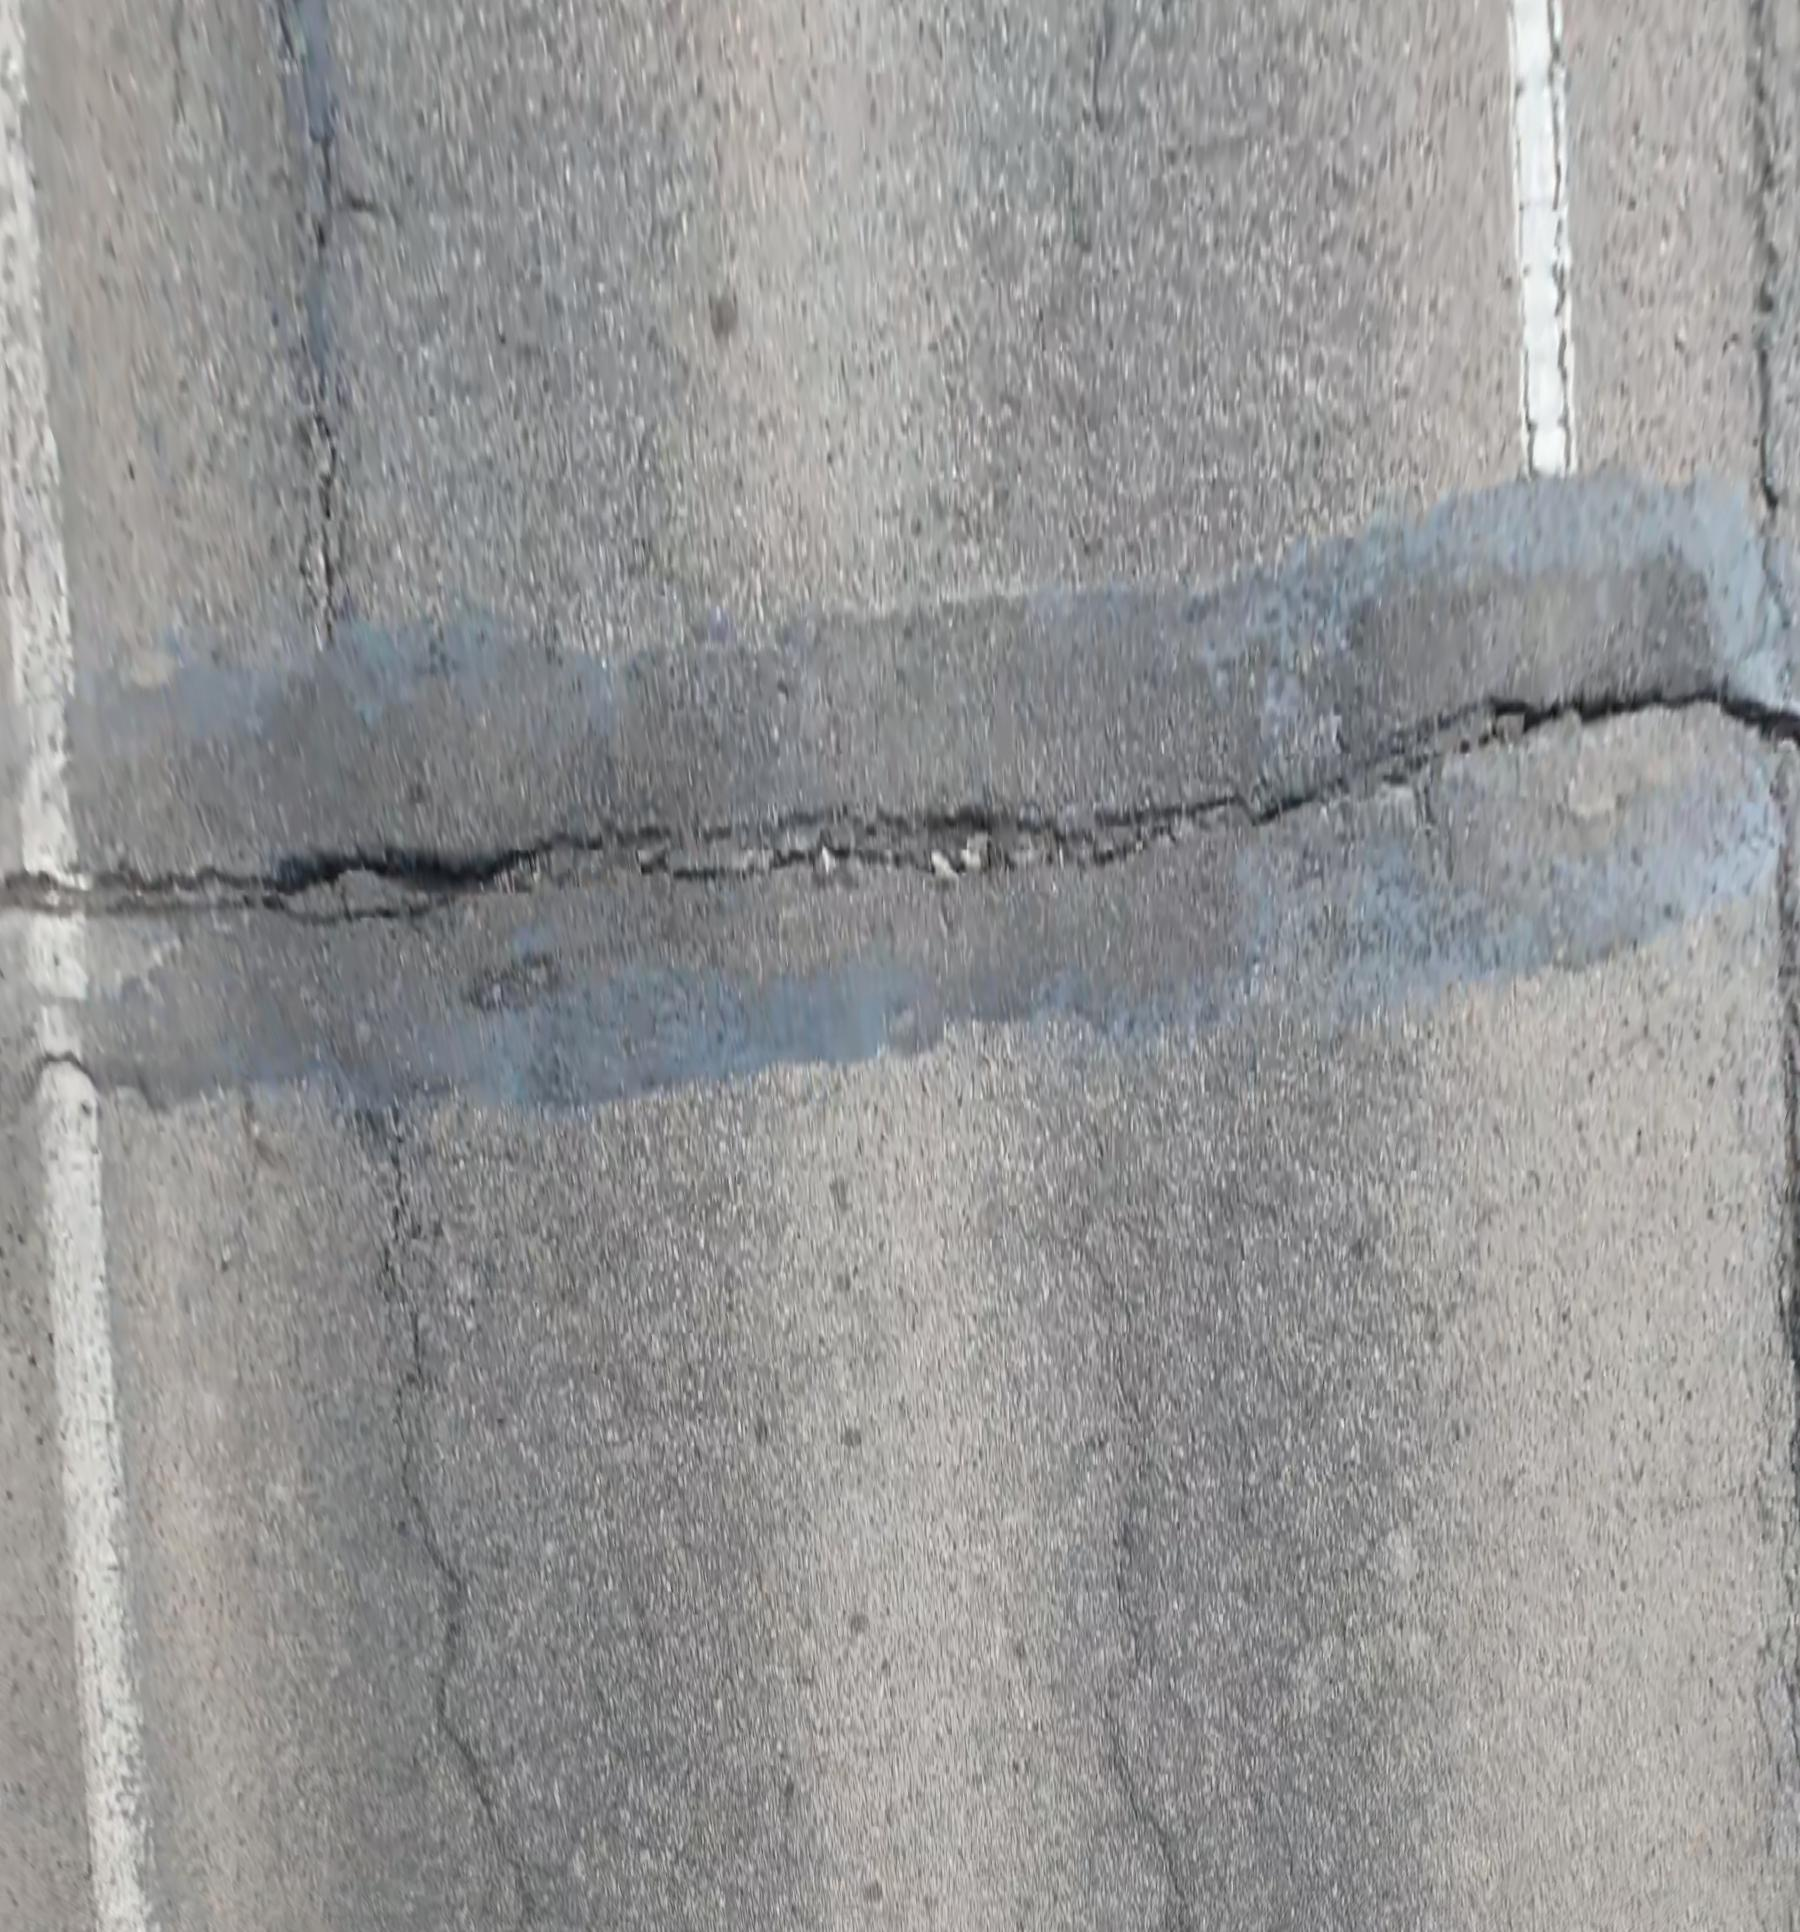pothole: (240, 848, 541, 925)
pothole_patch_poor: (71, 479, 1798, 1110)
